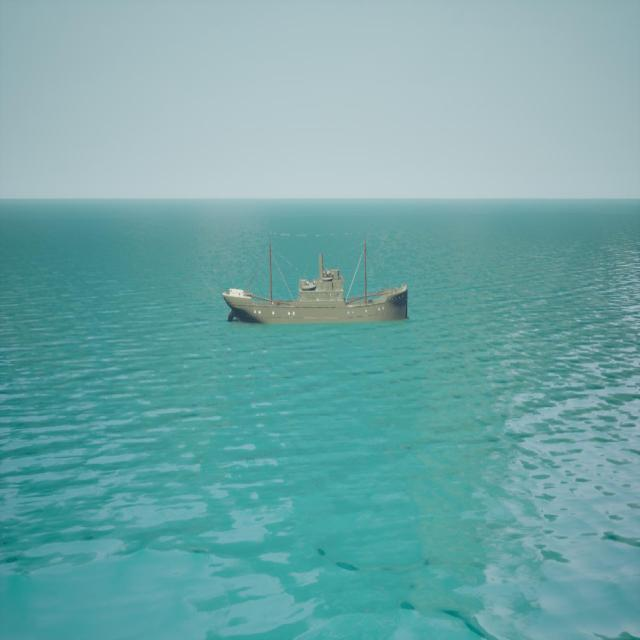fishing ship: (225, 236, 412, 328)
